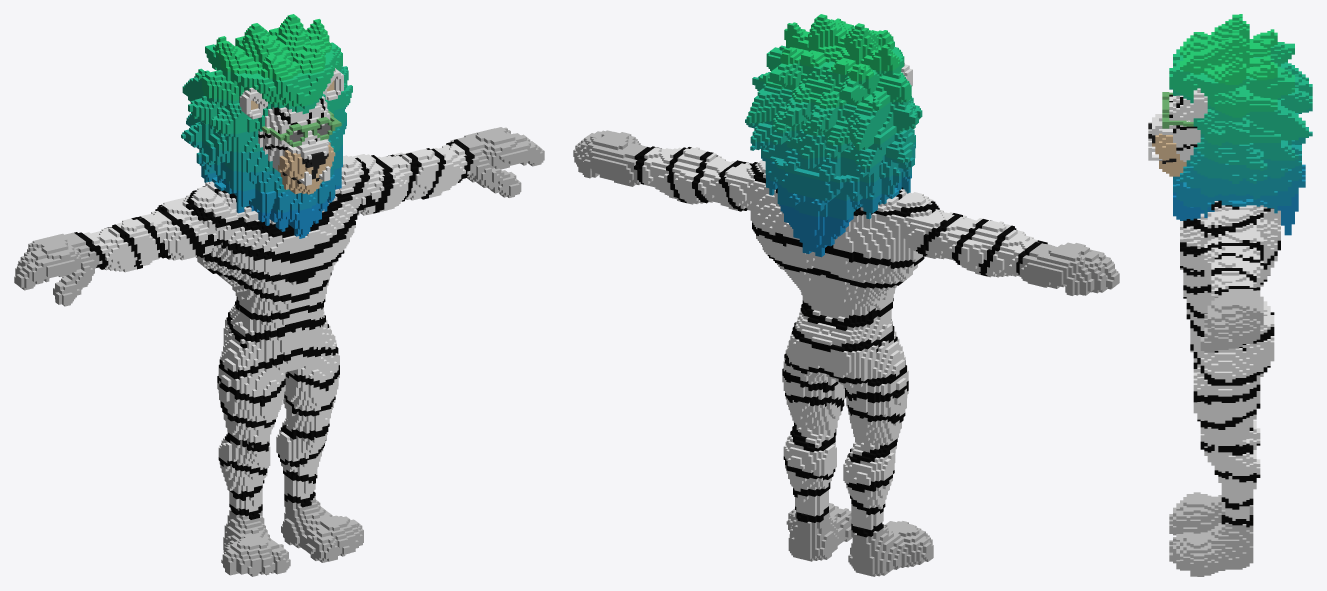
File: 747-3LIoVkIc.fbx
The picture shows the model from 3 angles, left to right: view 1: azimuth 30°, elevation 25°; view 2: azimuth 150°, elevation 25°; view 3: azimuth 270°, elevation 25°; orthographic projection. The views are drawn at different scales.
Visible parts, largest first — view 1: ork; view 2: ork; view 3: ork.
Boxes of the visible parts, x1,y1,x2,y2 form: ork: (14,14,544,576); ork: (573,14,1119,576); ork: (1148,14,1312,576).
Bounding box in the file's own units: 17.2 × 16.5 × 4.7.
4 materials, 4 textured.
